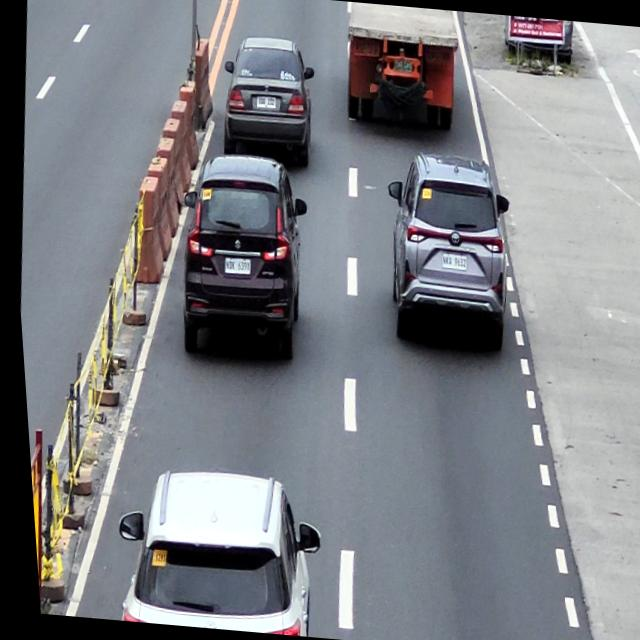Car: (101, 462, 323, 638), (165, 150, 316, 366), (370, 148, 518, 355), (214, 34, 321, 170)
License-Plate: (218, 256, 247, 274), (437, 253, 464, 272), (392, 59, 413, 74), (253, 95, 275, 109)
Truck: (336, 1, 465, 132)
